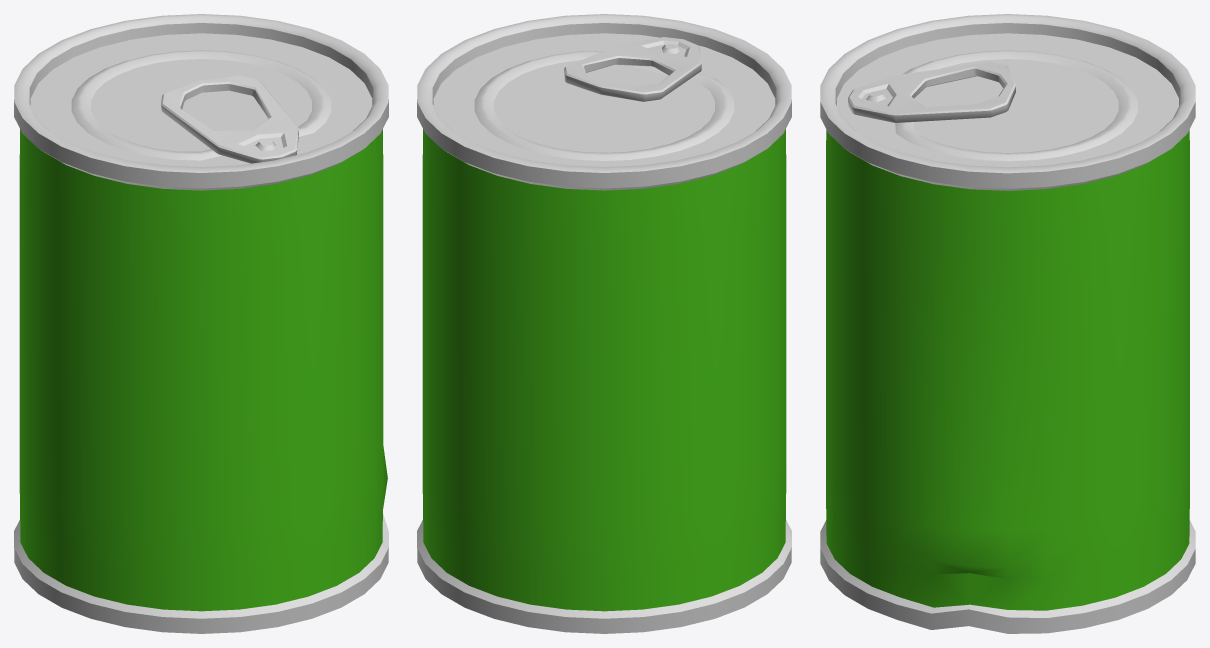
File: soupcan.fbx
3 renders of one model, left to right at view 1: azimuth 30°, elevation 25°; view 2: azimuth 150°, elevation 25°; view 3: azimuth 270°, elevation 25°, orthographic.
Parts seen in each view (by area): view 1: Cylinder018; view 2: Cylinder018; view 3: Cylinder018.
Part boxes in pixels (x1,y1,x2,y2): Cylinder018: (14,14,388,633); Cylinder018: (417,14,791,633); Cylinder018: (820,14,1195,633).
Bounding box in the file's own units: 2.52 × 3.5 × 2.5.
